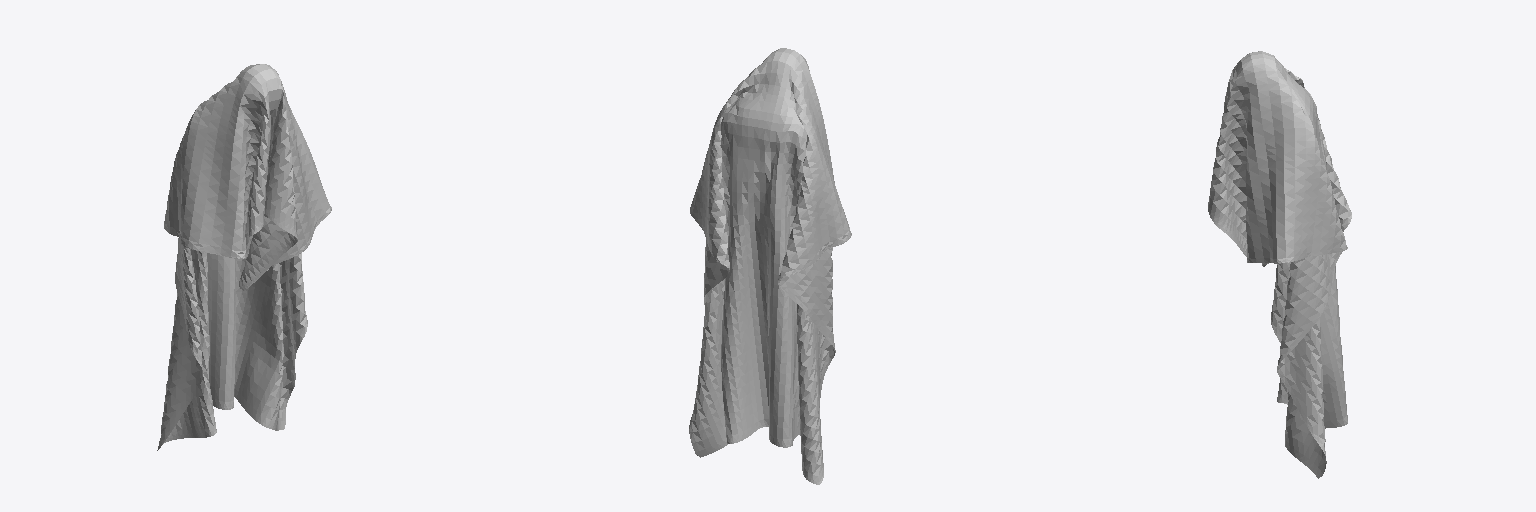
File: uploads_files_2931636_Floating+Cape+1.obj
3 views of the same model, side by side, from view 1: azimuth 30°, elevation 25°; view 2: azimuth 150°, elevation 25°; view 3: azimuth 270°, elevation 25° (orthographic).
Visible parts, largest first — view 1: Floating_Cape_1_Plane.003; view 2: Floating_Cape_1_Plane.003; view 3: Floating_Cape_1_Plane.003.
Part boxes in pixels (x1,y1,x2,y2): Floating_Cape_1_Plane.003: (157, 64, 331, 450); Floating_Cape_1_Plane.003: (689, 48, 851, 484); Floating_Cape_1_Plane.003: (1208, 51, 1351, 478).
Bounding box in the file's own units: 0.6845 × 1.71 × 0.5613.